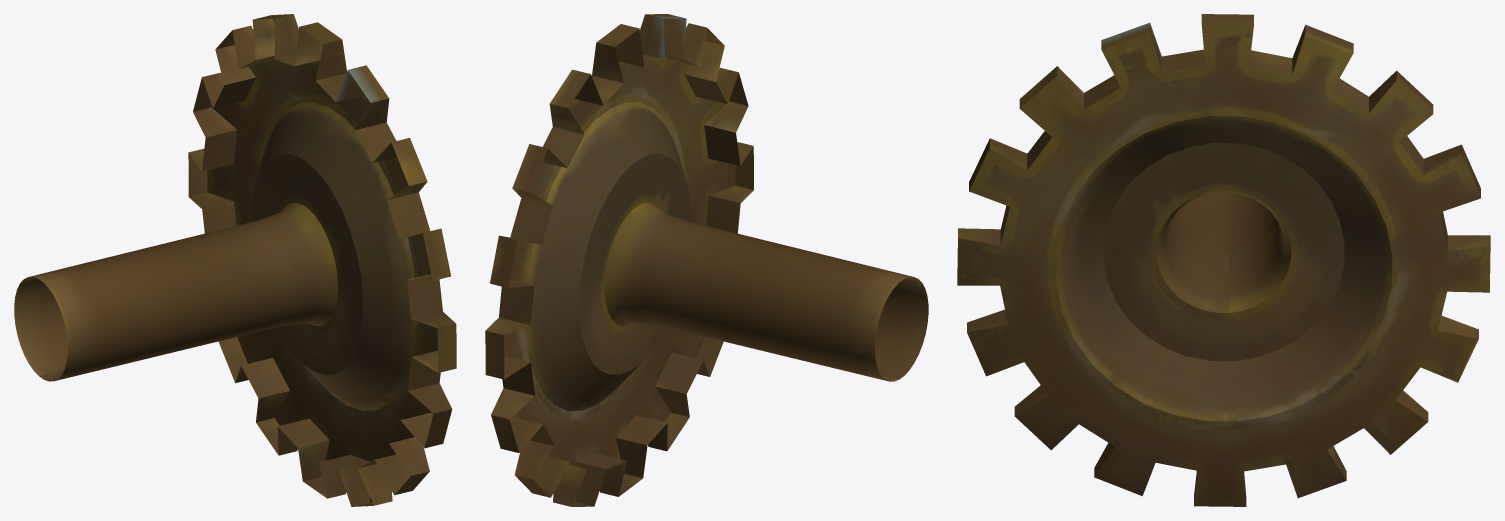
The model's file is EngranajeGr01_T.obj.
3 views of the same model, side by side, from view 1: azimuth 30°, elevation 25°; view 2: azimuth 150°, elevation 25°; view 3: azimuth 270°, elevation 25° (orthographic). The views are drawn at different scales.
Visible parts, largest first — view 1: EngranajesGr01_ORO01.003; view 2: EngranajesGr01_ORO01.003; view 3: EngranajesGr01_ORO01.003.
Boxes of the visible parts, box(x1,y1,x2,y2) form: EngranajesGr01_ORO01.003: box(14, 14, 456, 506); EngranajesGr01_ORO01.003: box(485, 14, 928, 506); EngranajesGr01_ORO01.003: box(957, 14, 1490, 506).
Size of the model in its own units: 3.97 by 5.77 by 5.77.
